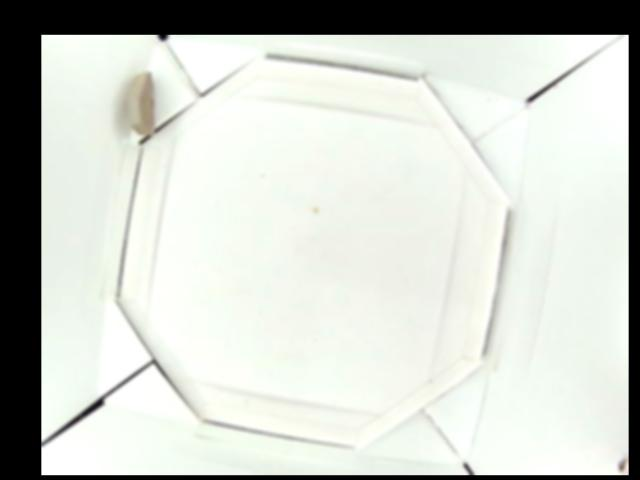China: (123, 71, 155, 137)
